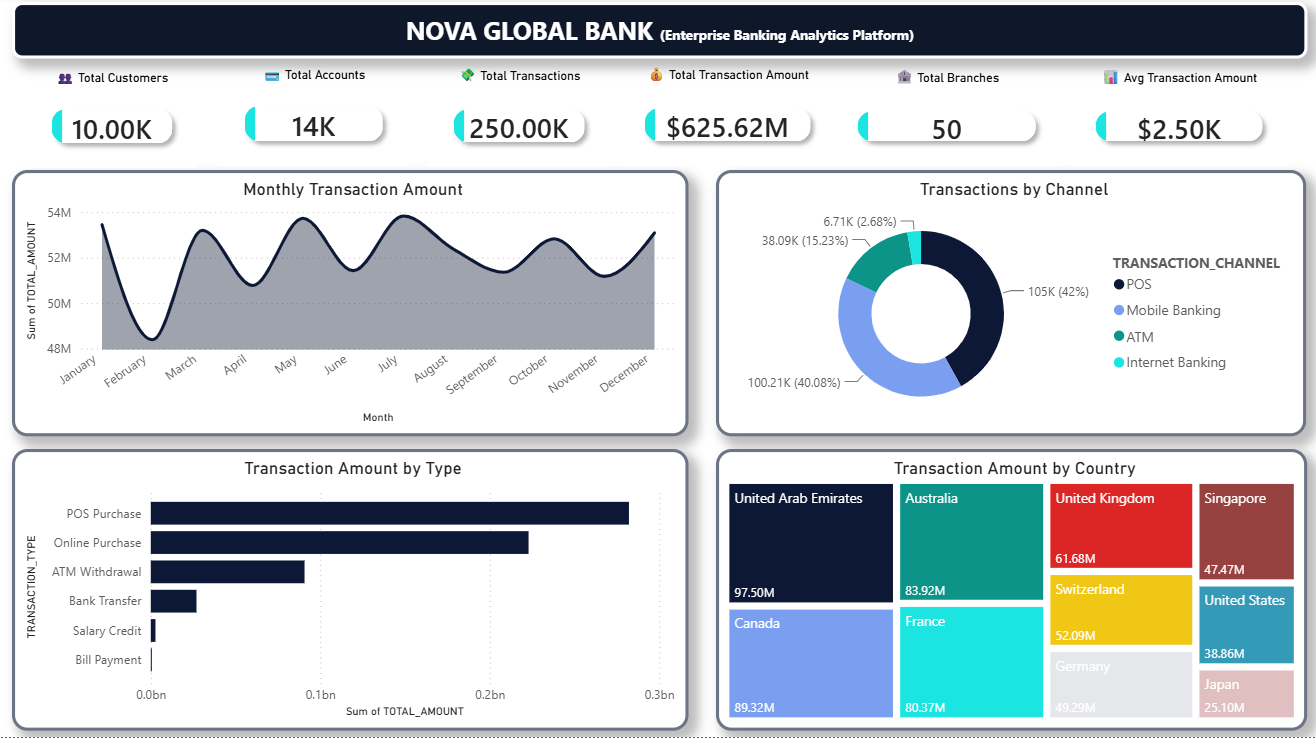

The page's visual inventory and layout, read from the dashboard file:
{"tool":"powerbi","page":{"name":"Executive Dashboard","canvas":[1280,720],"ordinal":0},"visuals":[{"type":"lineChart","title":"Monthly Transaction Amount","fields":{"Category":["TRANSACTION_ANALYTICS.MONTH.Variation.Date Hierarchy.Month","TRANSACTION_ANALYTICS.MONTH.Variation.Date Hierarchy.Day"],"Y":["Sum(TRANSACTION_ANALYTICS.TOTAL_AMOUNT)"]},"box":[11.5,168.5,657.5,258.7],"z":0},{"type":"donutChart","title":"Transactions by Channel","fields":{"Category":["TRANSACTION_ANALYTICS.TRANSACTION_CHANNEL"],"Y":["Sum(TRANSACTION_ANALYTICS.TOTAL_TRANSACTIONS)"]},"box":[696.6,168.5,574,258.7],"z":1000},{"type":"clusteredBarChart","title":"Transaction Amount by Type","fields":{"Category":["TRANSACTION_ANALYTICS.TRANSACTION_TYPE"],"Y":["Sum(TRANSACTION_ANALYTICS.TOTAL_AMOUNT)"]},"box":[11.5,440,657.5,274.2],"z":2000},{"type":"treemap","title":"Transaction Amount by Country","fields":{"Group":["COUNTRY_PERFORMANCE.COUNTRY"],"Values":["Sum(COUNTRY_PERFORMANCE.TOTAL_AMOUNT)"]},"box":[696.6,440,575.3,274.2],"z":3000},{"type":"cardVisual","title":"👥 Total Customers","fields":{"Data":["Sum(EXECUTIVE_SUMMARY.TOTAL_CUSTOMERS)"]},"box":[21.2,68.7,175.2,102.4],"z":4000},{"type":"cardVisual","title":"💳 Total Accounts","fields":{"Data":["Sum(EXECUTIVE_SUMMARY.TOTAL_ACCOUNTS)"]},"box":[209.2,65.7,192.7,103.7],"z":5000},{"type":"cardVisual","title":"💸 Total Transactions","fields":{"Data":["Sum(EXECUTIVE_SUMMARY.TOTAL_TRANSACTIONS)"]},"box":[412.6,67,185.3,103.7],"z":6000},{"type":"cardVisual","title":"💰 Total Transaction Amount","fields":{"Data":["Sum(EXECUTIVE_SUMMARY.TOTAL_TRANSACTION_AMOUNT)"]},"box":[597.9,65.7,219.6,103.7],"z":7000},{"type":"cardVisual","title":"🏦 Total Branches","fields":{"Data":["CountNonNull(BRANCH_PERFORMANCE.BRANCH_NAME)"]},"box":[805.4,68.7,231.7,100.4],"z":8000},{"type":"cardVisual","title":"📊 Avg Transaction Amount","fields":{"Data":["Sum(EXECUTIVE_SUMMARY.AVG_TRANSACTION_AMOUNT)"]},"box":[1037.1,68.7,221,100.4],"z":9000},{"type":"textbox","box":[11.5,4.7,1260.5,55.2],"z":10000}]}

Visuals, with their boxes in screenshot pixels (x1, y1, x2, y2), scaled from the page's 1280x720 canvas onto the 1316x738 screenshot:
"Monthly Transaction Amount" lineChart: <box>12,173,688,438</box>
"Transactions by Channel" donutChart: <box>716,173,1306,438</box>
"Transaction Amount by Type" clusteredBarChart: <box>12,451,688,732</box>
"Transaction Amount by Country" treemap: <box>716,451,1308,732</box>
"👥 Total Customers" cardVisual: <box>22,70,202,175</box>
"💳 Total Accounts" cardVisual: <box>215,67,413,174</box>
"💸 Total Transactions" cardVisual: <box>424,69,615,175</box>
"💰 Total Transaction Amount" cardVisual: <box>615,67,840,174</box>
"🏦 Total Branches" cardVisual: <box>828,70,1066,173</box>
"📊 Avg Transaction Amount" cardVisual: <box>1066,70,1293,173</box>
textbox: <box>12,5,1308,61</box>
